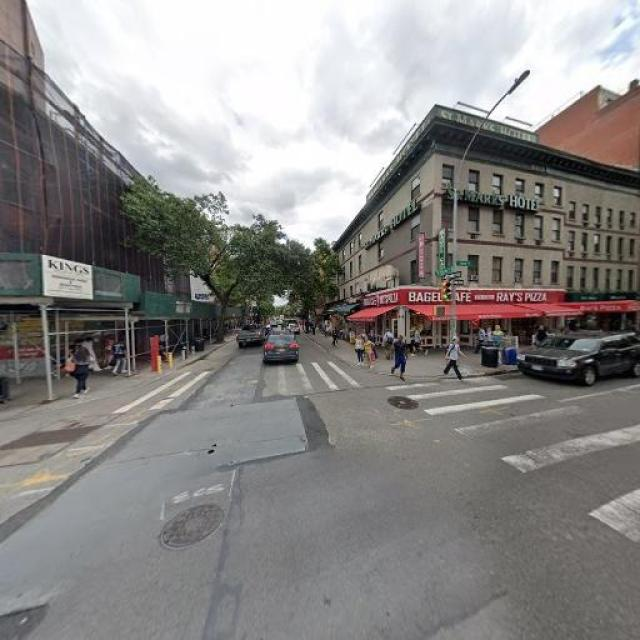Building: (345, 105, 640, 347), (1, 88, 168, 383)
